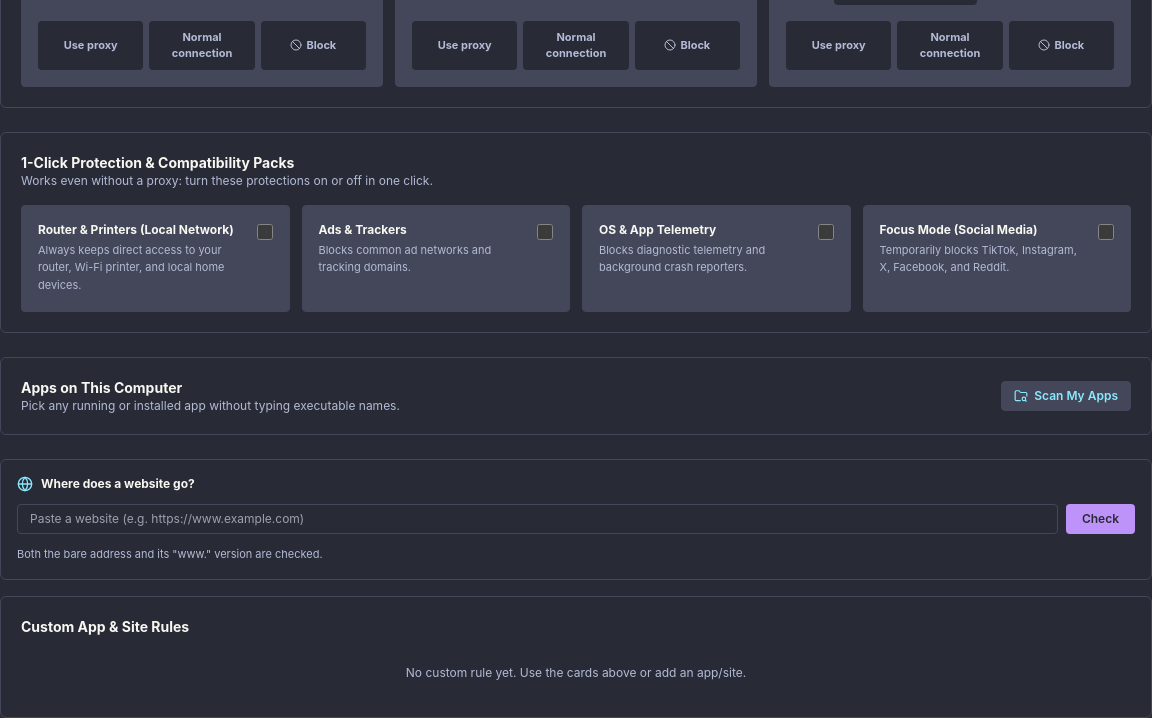
RulesView Simple entry points › checks both the bare host and its www variant in the site tester
The width and height of the screenshot is (1152, 718).
(page scrolled)
Type "exemple.com" into the field with placeholder "Paste a website (e.g. https://www.example.com)" at (537, 519), box x1=17 y1=504 x2=1058 y2=534
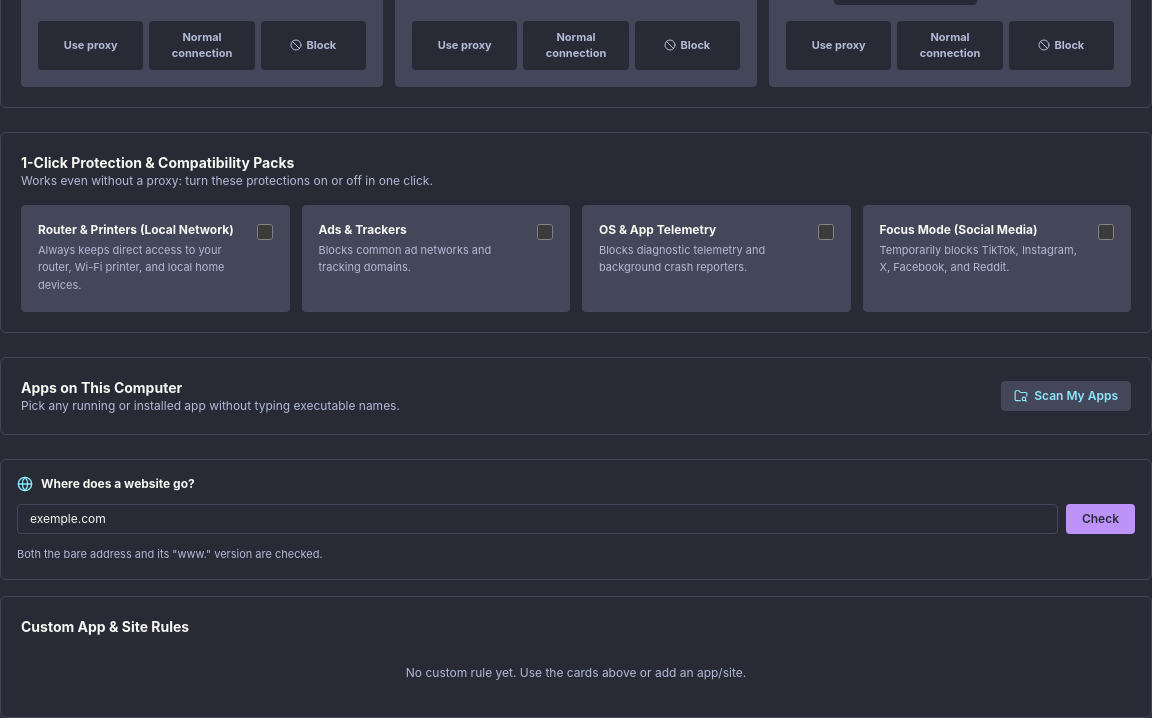
Click the button "Check" at (1100, 519), box x1=1066 y1=504 x2=1135 y2=534
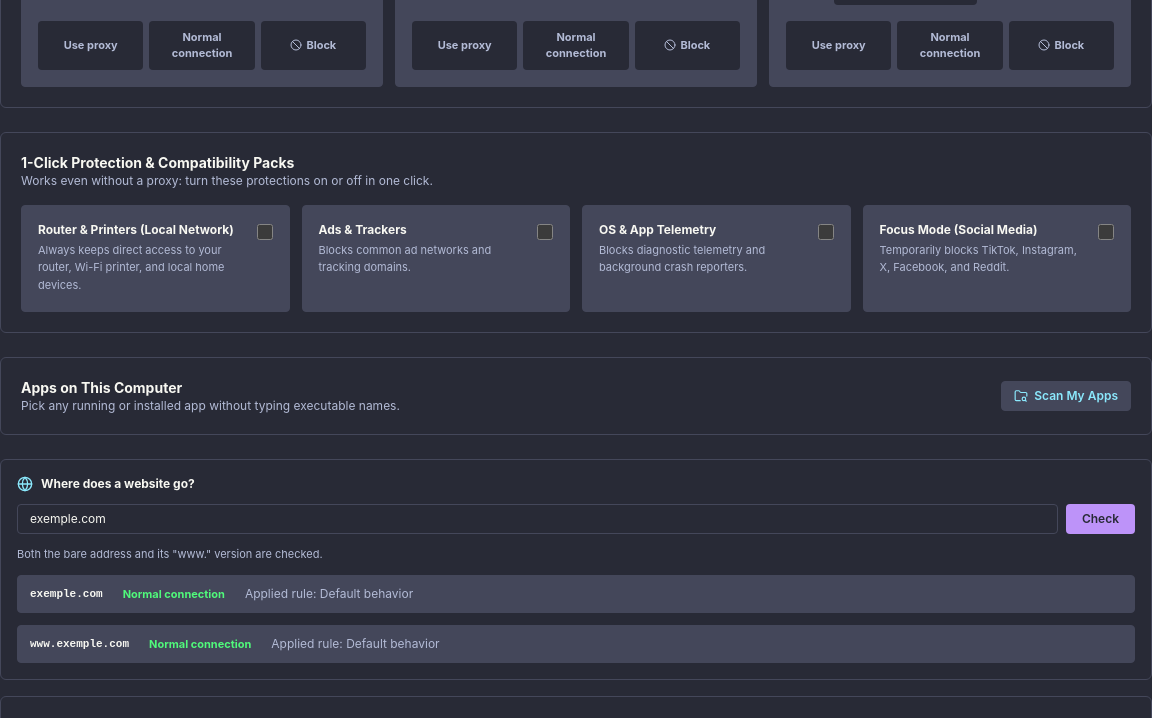
Expected: the text "www.exemple.com" is shown, x1=30 y1=636 x2=129 y2=652
